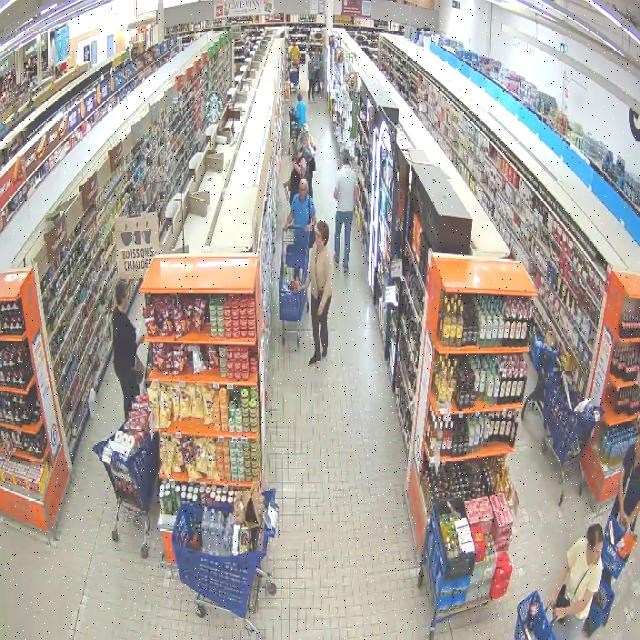article: (284, 187, 290, 200)
bags: (555, 585, 570, 607), (135, 356, 145, 385), (307, 196, 311, 221)
hands: (546, 593, 558, 607), (137, 331, 147, 346), (620, 511, 629, 527), (555, 608, 568, 619), (300, 283, 309, 291), (305, 224, 313, 232), (319, 303, 324, 315), (284, 221, 290, 230), (283, 181, 289, 187)
person: (549, 525, 603, 639), (112, 282, 144, 418), (303, 221, 332, 365), (334, 150, 359, 274), (611, 434, 639, 531), (286, 178, 316, 232), (285, 158, 307, 204)
